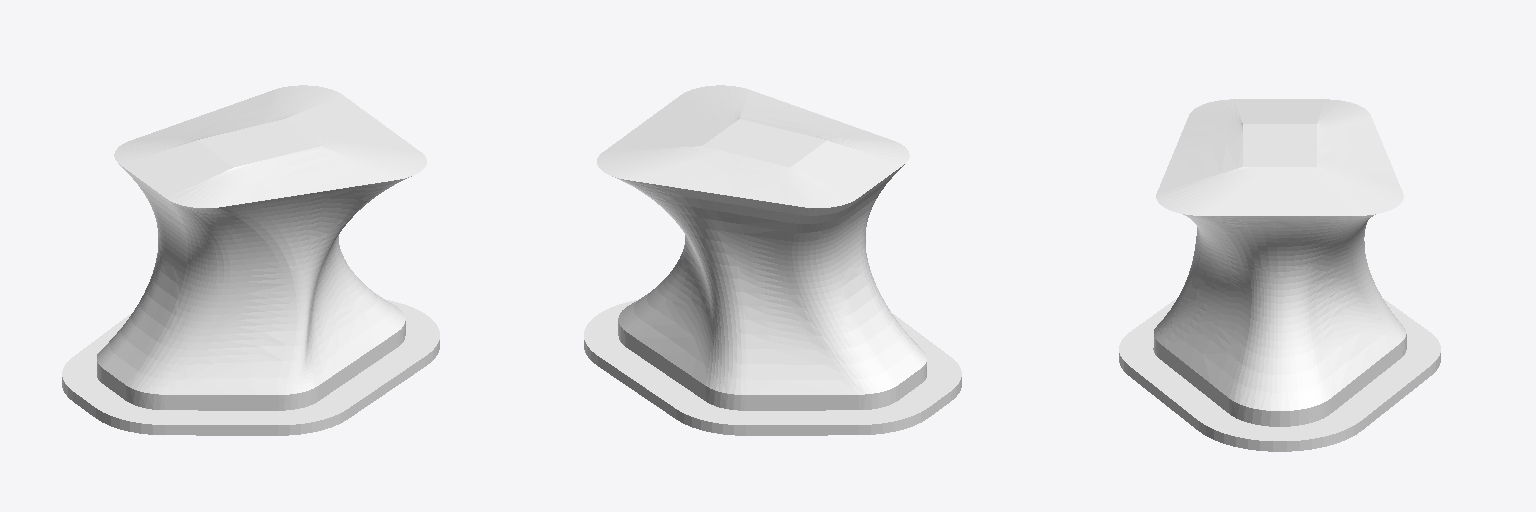
The model's file is Soumaya.obj.
The picture shows the model from 3 angles: view 1: azimuth 30°, elevation 25°; view 2: azimuth 150°, elevation 25°; view 3: azimuth 270°, elevation 25°; orthographic projection.
Visible parts, largest first — view 1: Soumaya; view 2: Soumaya; view 3: Soumaya.
Boxes of the visible parts, box(x1,y1,x2,y2) form: Soumaya: box(62, 85, 439, 435); Soumaya: box(584, 85, 961, 435); Soumaya: box(1119, 99, 1440, 451).
Bounding box in the file's own units: 34.48 × 21.5 × 27.99.